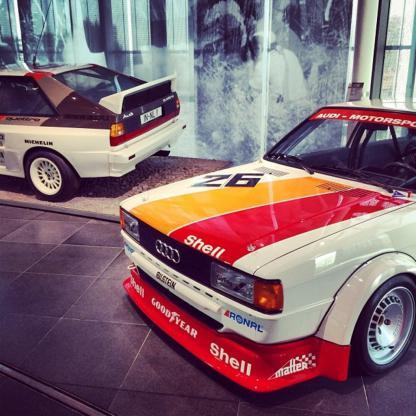car: (121, 97, 416, 392), (0, 0, 184, 201)
